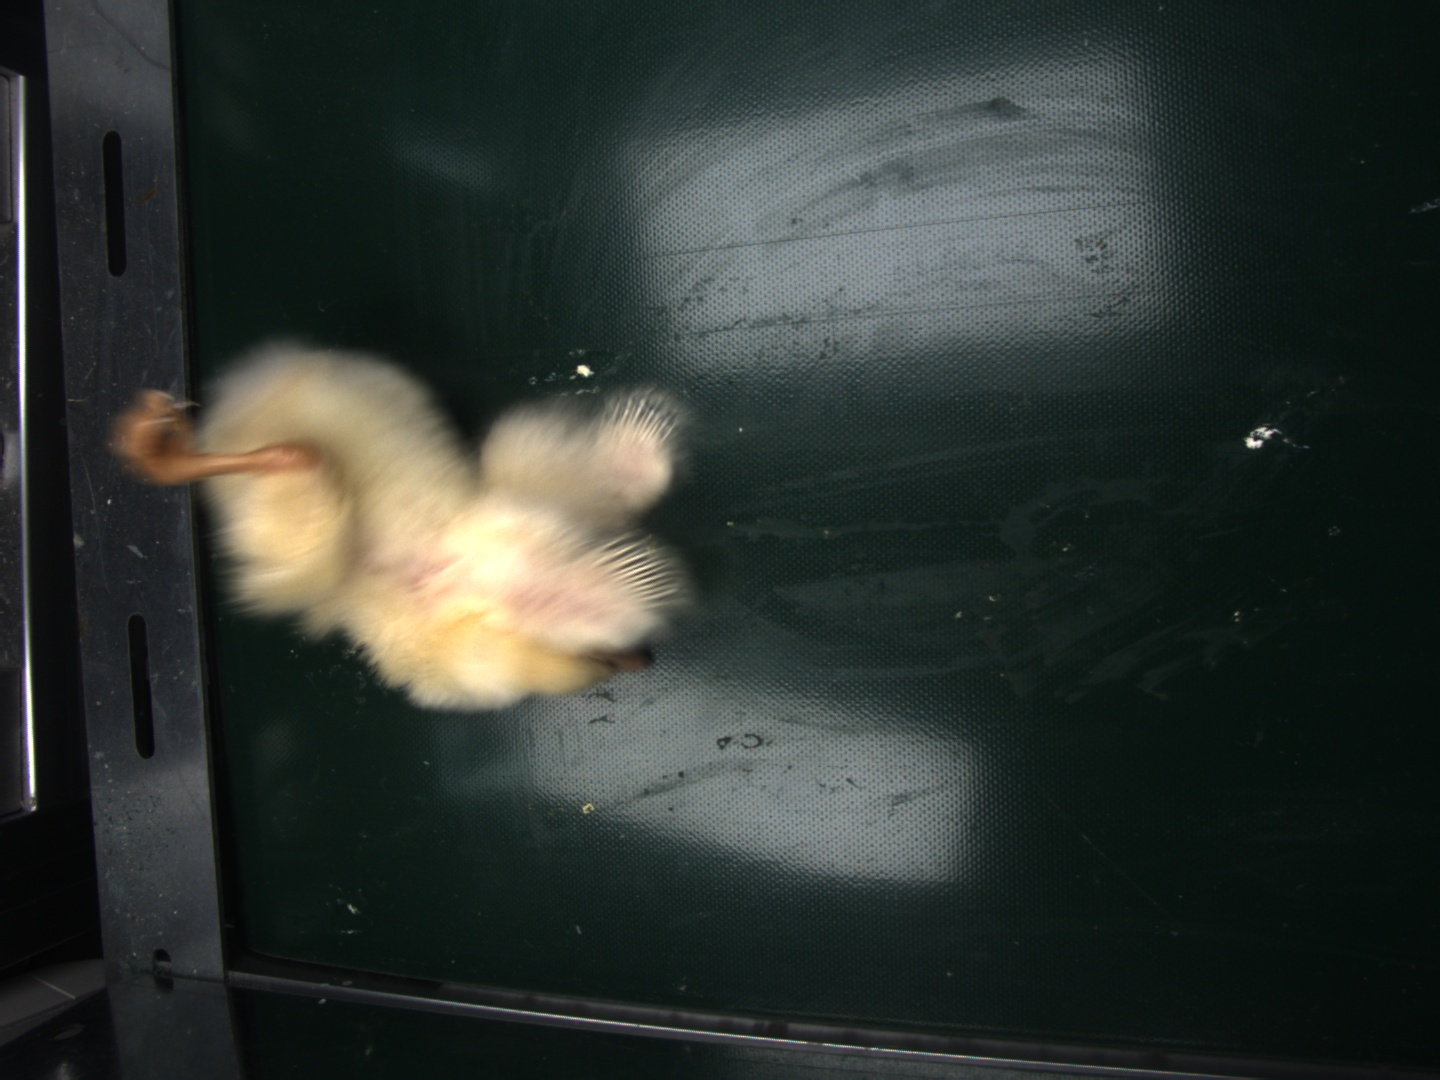male: (594, 535, 674, 604)
